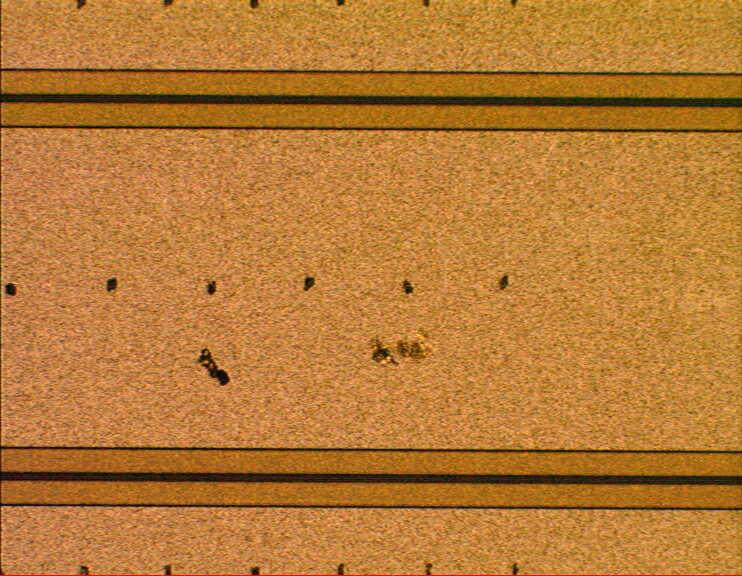SCRATCH: (186, 326, 453, 395)
